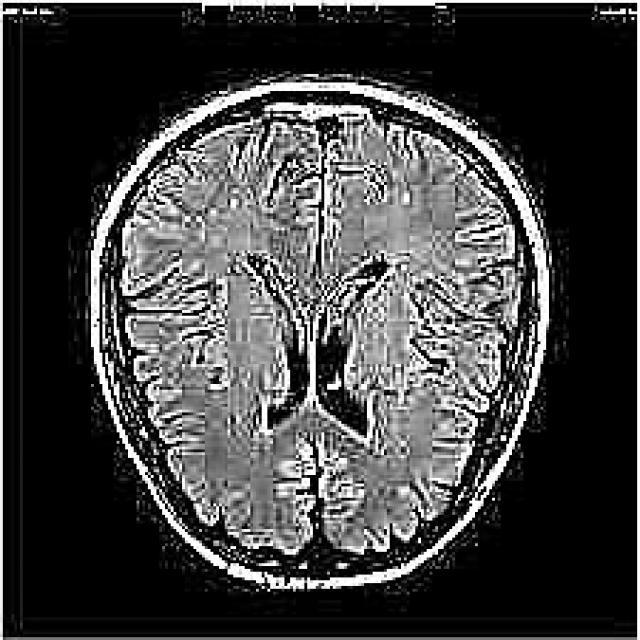notumor: (91, 77, 549, 589)
